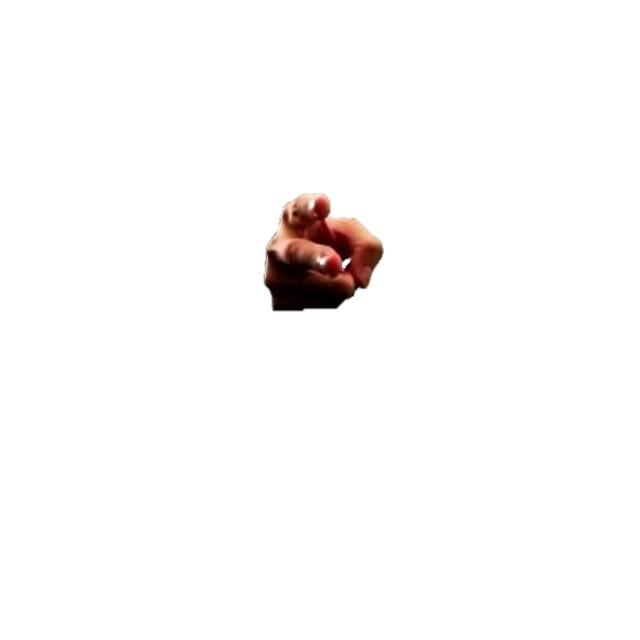tyoki: (262, 189, 385, 314)
